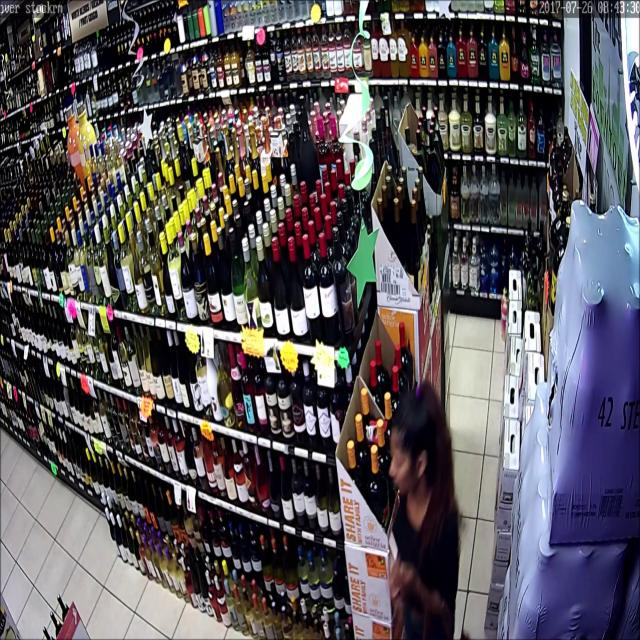normal: (364, 354, 474, 640)
